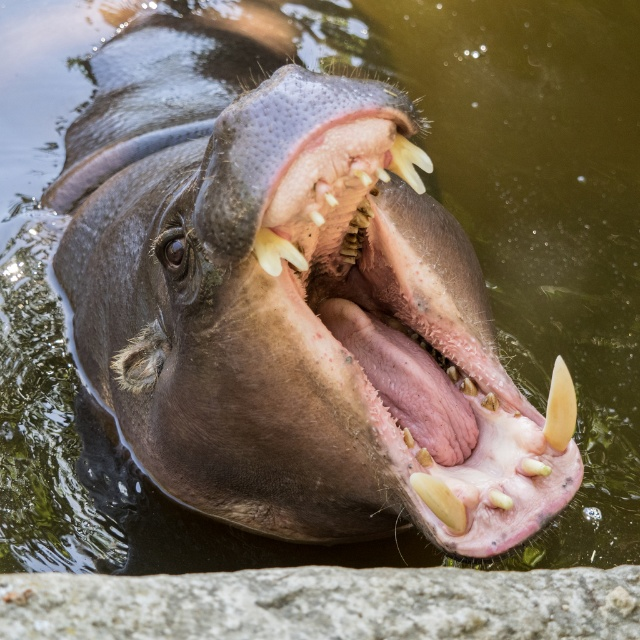Hippopotamus: (35, 0, 592, 564)
